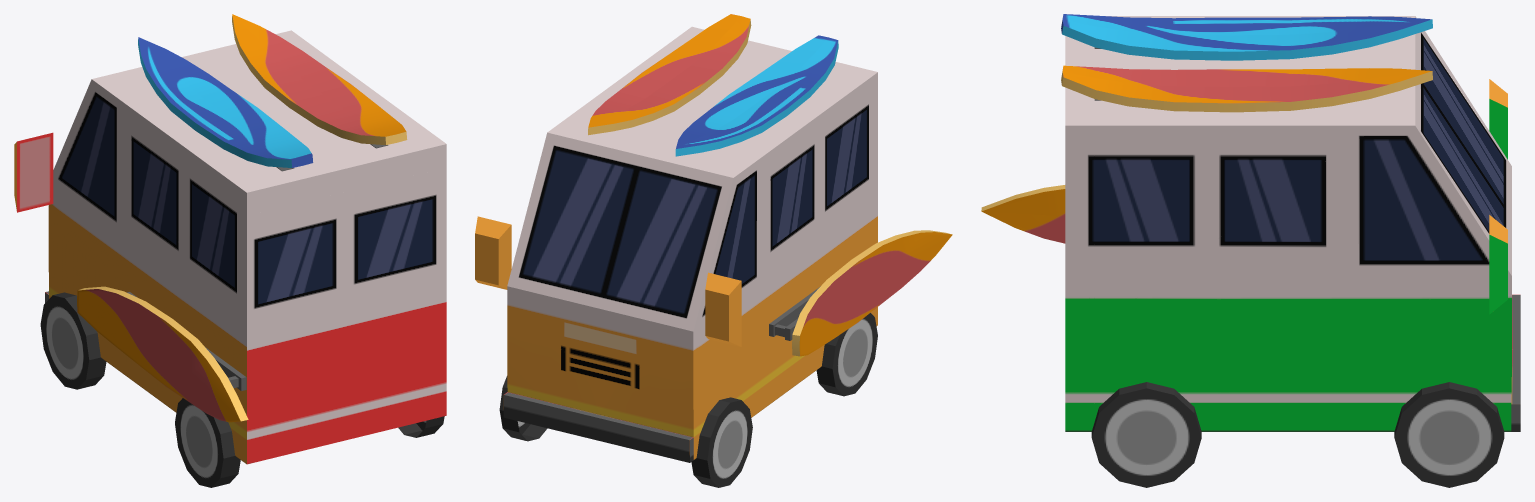
Rendered from Beach_van_1.fbx.
The picture shows the model from 3 angles, left to right: view 1: azimuth 30°, elevation 25°; view 2: azimuth 150°, elevation 25°; view 3: azimuth 270°, elevation 25°; orthographic projection. The views are drawn at different scales.
Parts seen in each view (by area): view 1: Beach_van_4, Beach_van_3, Beach_van_2; view 2: Beach_van_3, Beach_van_4, Beach_van_2; view 3: Beach_van_2, Beach_van_4, Beach_van_3.
Boxes of the visible parts, left/top/right/bottom form: Beach_van_4: left=17, top=14, right=446, bottom=487; Beach_van_3: left=14, top=30, right=445, bottom=487; Beach_van_2: left=46, top=30, right=446, bottom=292; Beach_van_3: left=475, top=26, right=952, bottom=487; Beach_van_4: left=504, top=14, right=838, bottom=441; Beach_van_2: left=556, top=27, right=871, bottom=439; Beach_van_2: left=1065, top=16, right=1520, bottom=487; Beach_van_4: left=1061, top=14, right=1520, bottom=437; Beach_van_3: left=981, top=16, right=1520, bottom=437.
Size of the model in its own units: 408 by 464 by 593.
